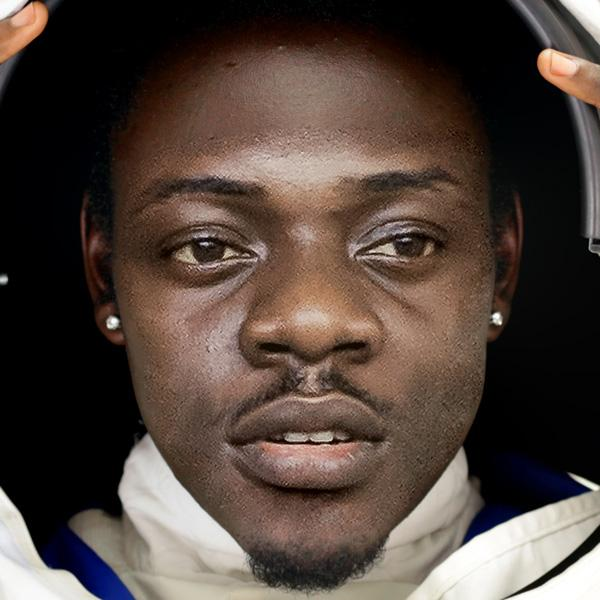Eyes: (346, 205, 457, 278), (146, 215, 261, 283)
